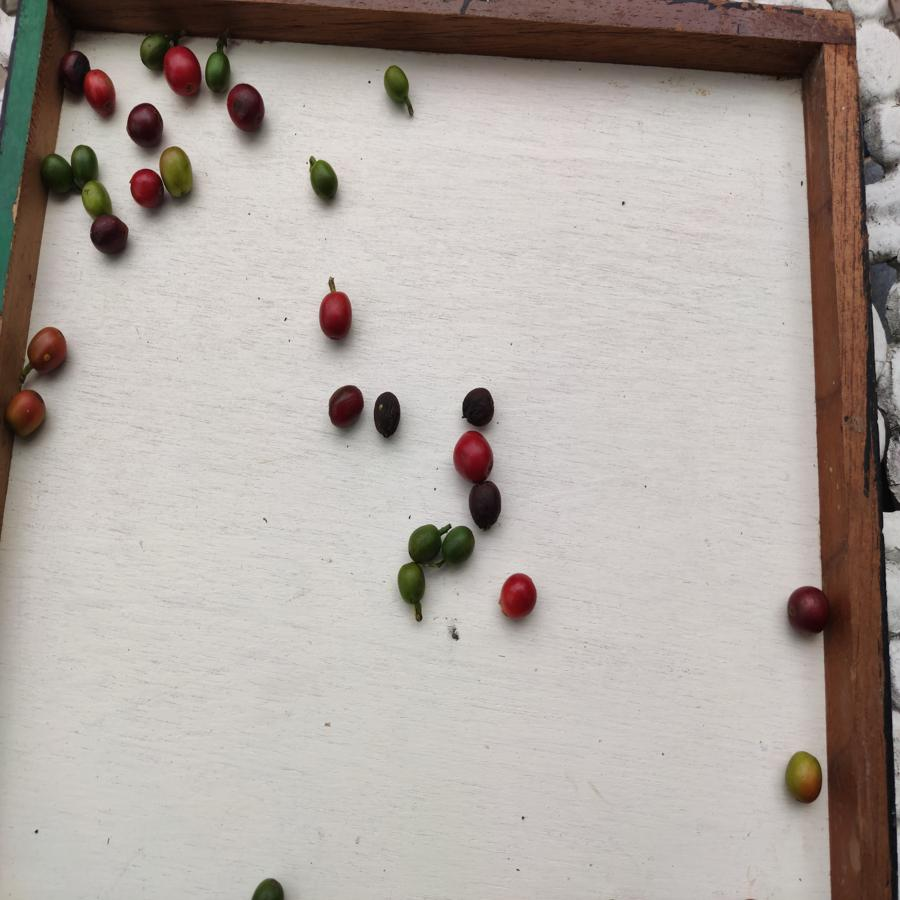Inmaduro: (395, 561, 429, 608), (39, 153, 74, 197), (406, 521, 441, 565), (310, 156, 339, 203), (383, 61, 413, 106), (443, 524, 476, 564), (204, 50, 233, 94), (70, 145, 99, 186), (139, 31, 167, 71), (81, 181, 112, 216), (248, 875, 289, 900)
Maduro: (451, 429, 498, 483), (164, 46, 204, 101), (498, 569, 539, 622), (82, 70, 118, 117), (319, 290, 353, 339), (129, 167, 165, 209)
Pinton: (24, 324, 79, 374), (781, 744, 823, 806), (159, 148, 204, 198), (5, 388, 48, 438)
Sobremaduro: (786, 584, 831, 639), (466, 483, 512, 528), (225, 83, 267, 131), (328, 382, 365, 433), (89, 216, 134, 257), (125, 102, 163, 150), (371, 389, 405, 439), (461, 386, 499, 427), (59, 49, 88, 95)
